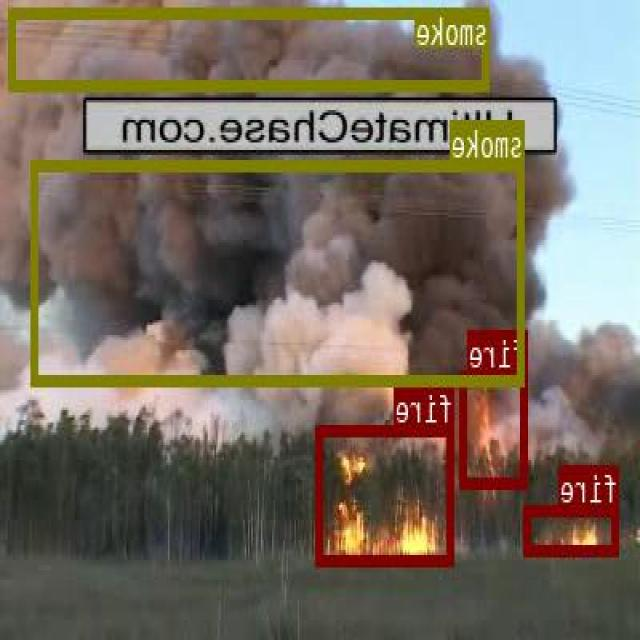fire: (318, 425, 455, 564), (462, 370, 528, 485), (525, 504, 620, 554)
smoke: (32, 158, 525, 384), (10, 8, 491, 88)
